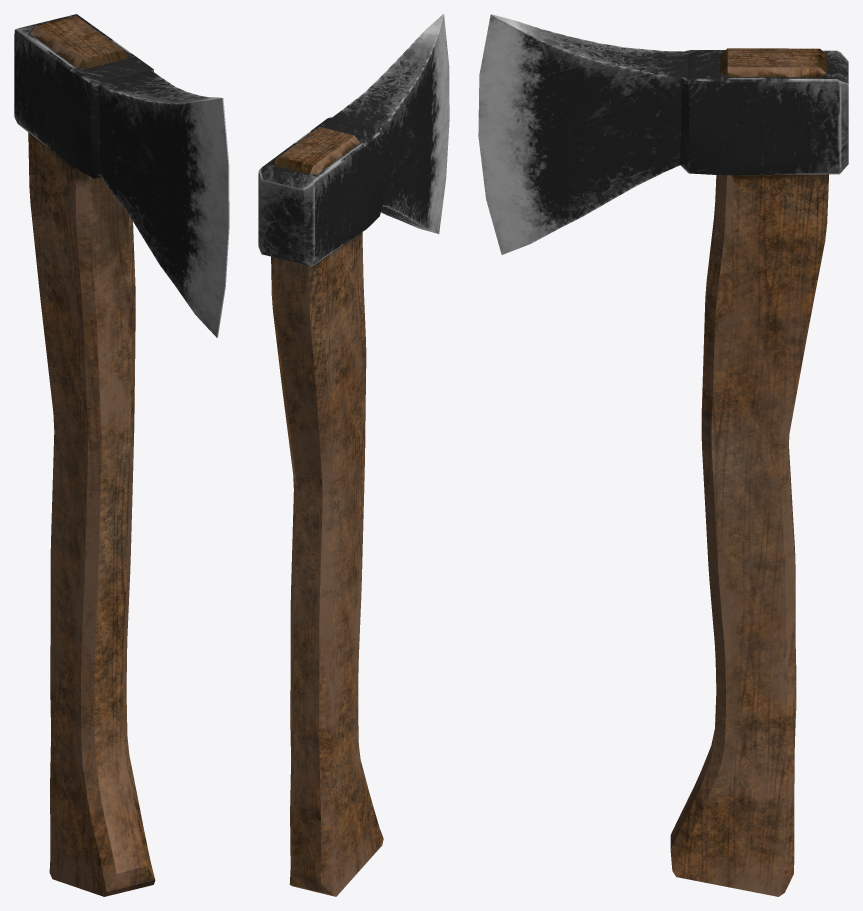
The model's file is AxeByEvolve.fbx.
3 views of the same model, side by side, from view 1: azimuth 30°, elevation 25°; view 2: azimuth 150°, elevation 25°; view 3: azimuth 270°, elevation 25° (orthographic). The views are drawn at different scales.
Visible parts, largest first — view 1: Cube, Cube.001; view 2: Cube, Cube.001; view 3: Cube, Cube.001.
Boxes of the visible parts, left/top/right/bottom form: Cube: left=28, top=15, right=155, bottom=896; Cube.001: left=14, top=14, right=229, bottom=337; Cube: left=271, top=127, right=383, bottom=896; Cube.001: left=258, top=14, right=449, bottom=266; Cube: left=670, top=48, right=829, bottom=896; Cube.001: left=478, top=14, right=848, bottom=254.
Bounding box in the file's own units: 63.75 × 840 × 324.
